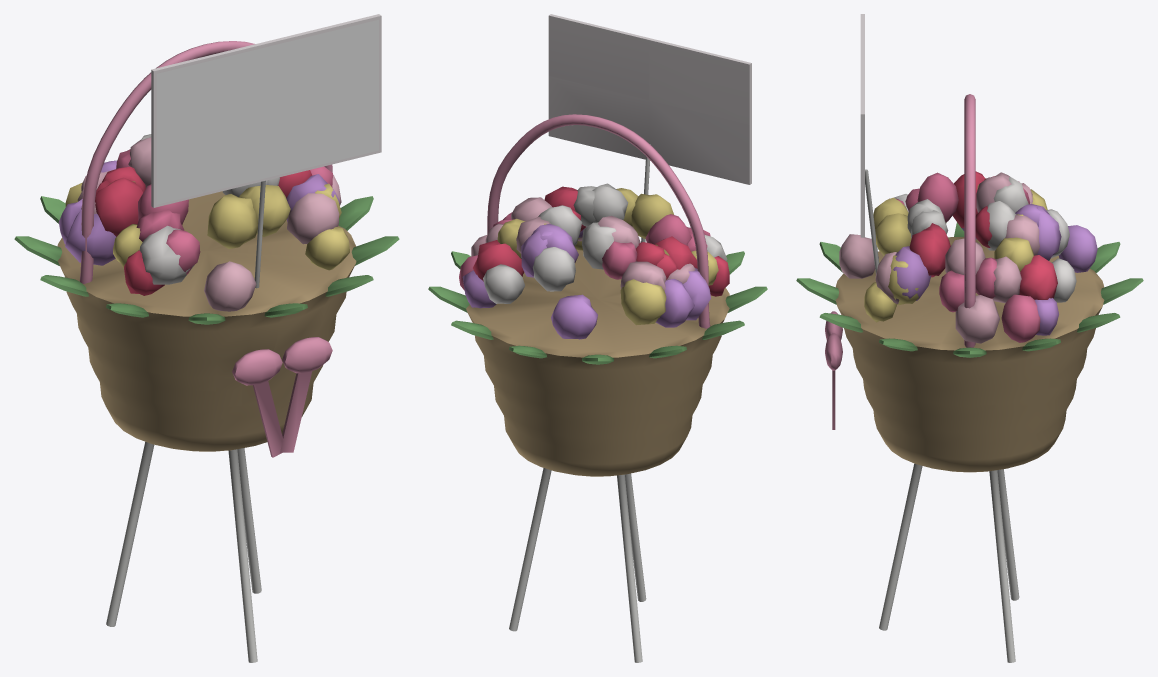
The model's file is pr_basket.glb.
3 views of the same model, side by side, from view 1: azimuth 30°, elevation 25°; view 2: azimuth 150°, elevation 25°; view 3: azimuth 270°, elevation 25° (orthographic). The views are drawn at different scales.
Visible parts, largest first — view 1: body, sign_card; view 2: body; view 3: body.
Part boxes in pixels (left/top/right/bottom): body: left=14, top=14, right=399, bottom=662; sign_card: left=156, top=19, right=378, bottom=204; body: left=428, top=14, right=767, bottom=662; body: left=796, top=14, right=1143, bottom=662.
Bounding box in the file's own units: 1.2 × 2.16 × 1.2.
